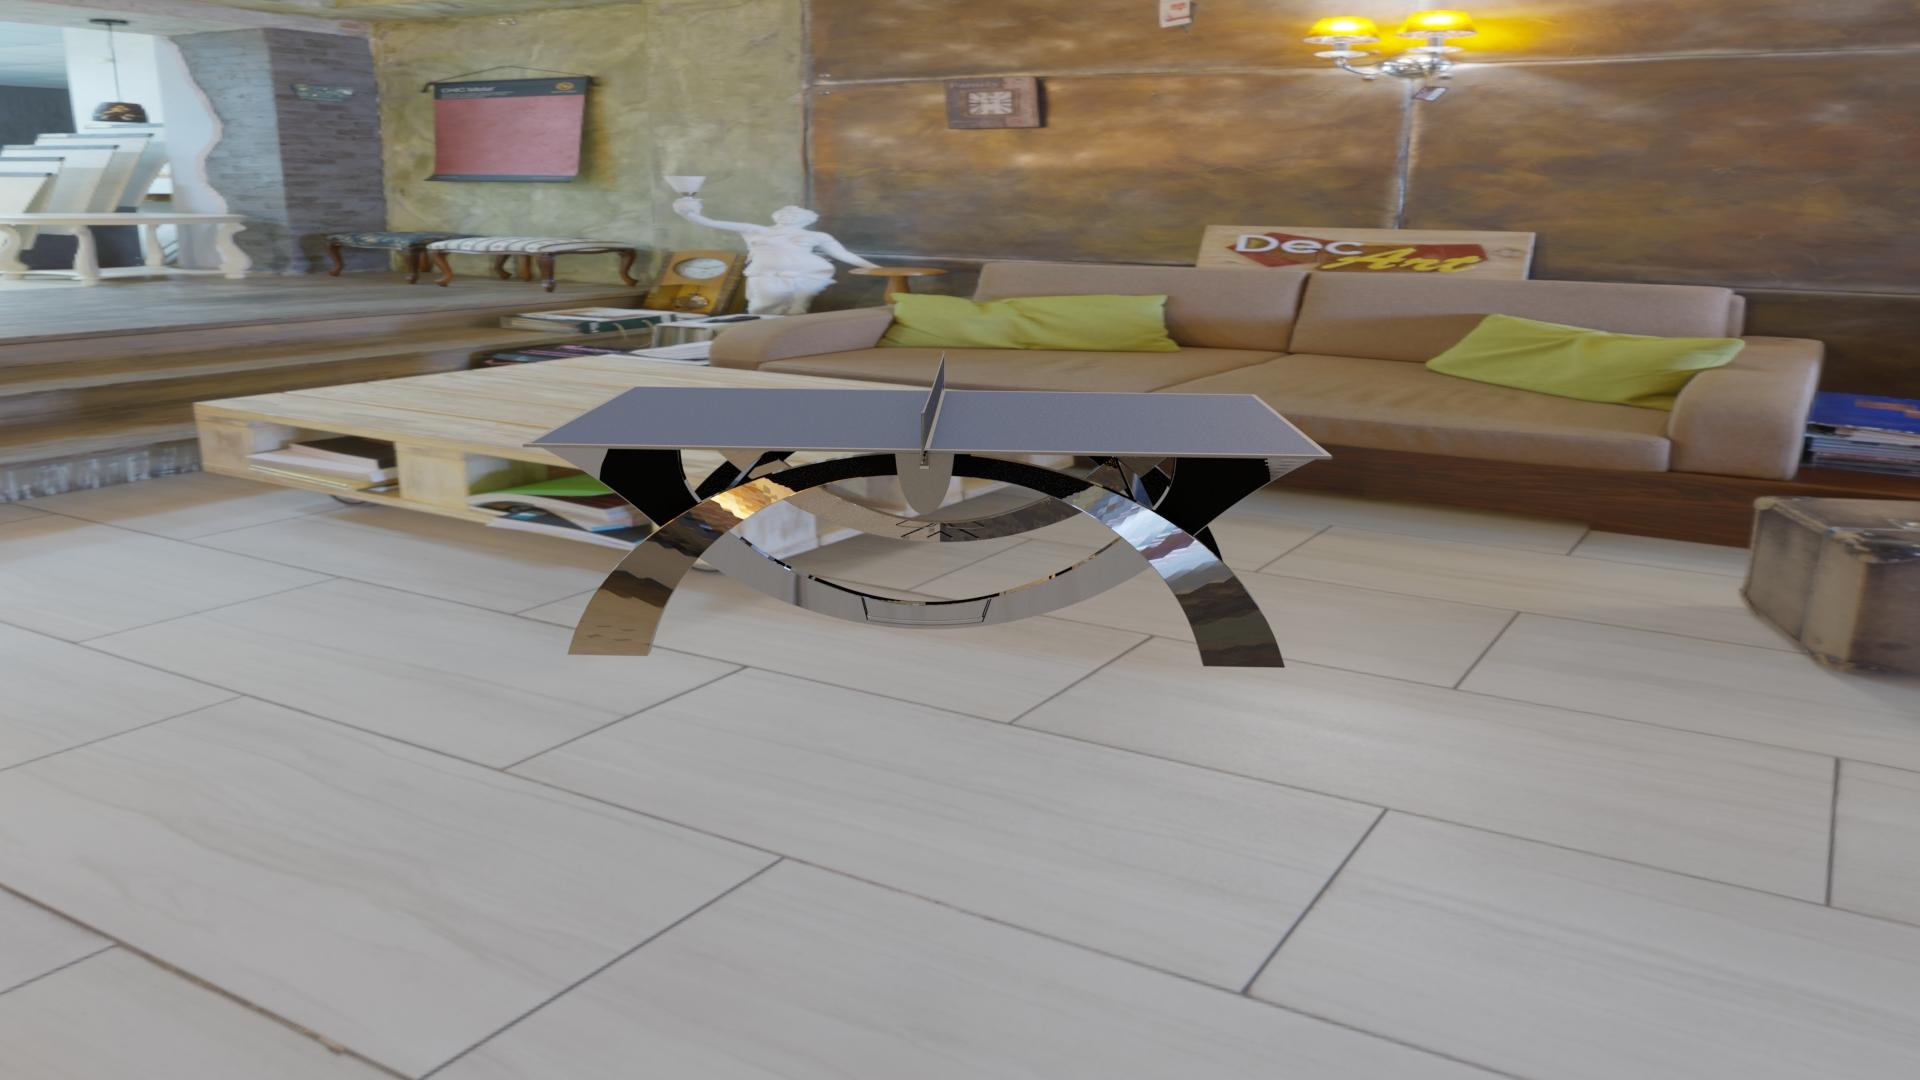table: (530, 386, 1325, 455)
